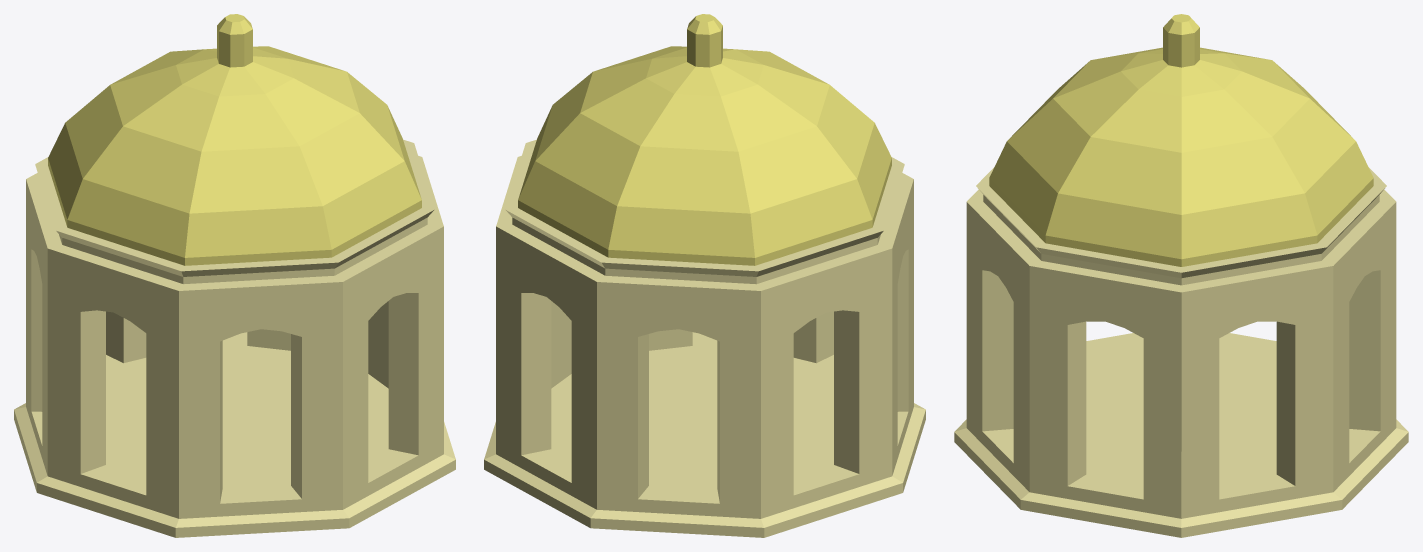
File: islamicbuildingV2.fbx
The picture shows the model from 3 angles, left to right: view 1: azimuth 30°, elevation 25°; view 2: azimuth 150°, elevation 25°; view 3: azimuth 270°, elevation 25°; orthographic projection.
Parts seen in each view (by area): view 1: Cylinder, Cylinder.001; view 2: Cylinder, Cylinder.001; view 3: Cylinder, Cylinder.001.
Boxes of the visible parts, x1=… form: Cylinder: x1=14, y1=139, x2=455, y2=537; Cylinder.001: x1=48, y1=14, x2=421, y2=265; Cylinder: x1=484, y1=139, x2=925, y2=537; Cylinder.001: x1=518, y1=14, x2=891, y2=265; Cylinder: x1=954, y1=168, x2=1408, y2=537; Cylinder.001: x1=989, y1=14, x2=1373, y2=266.
Bounding box in the file's own units: 578 × 595 × 578.
